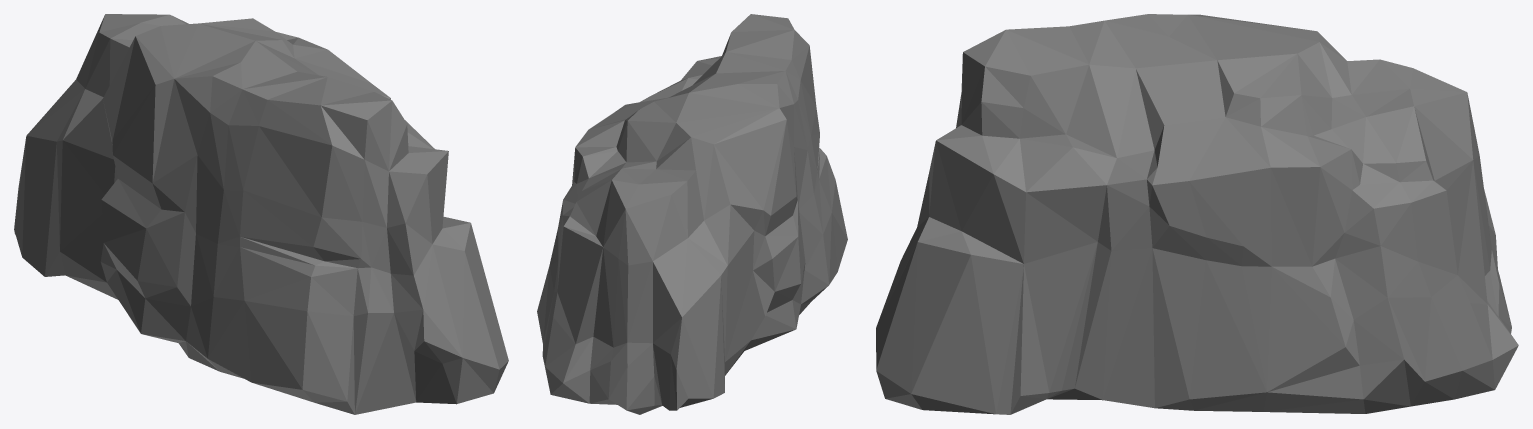
The model's file is model_polytope_rock_flat02.fbx.
The picture shows the model from 3 angles, left to right: view 1: azimuth 30°, elevation 25°; view 2: azimuth 150°, elevation 25°; view 3: azimuth 270°, elevation 25°; orthographic projection. The views are drawn at different scales.
Parts seen in each view (by area): view 1: model_polytope_rock_flat02; view 2: model_polytope_rock_flat02; view 3: model_polytope_rock_flat02.
Part boxes in pixels (<box>): model_polytope_rock_flat02: <box>14,14,508,414</box>; model_polytope_rock_flat02: <box>537,14,847,414</box>; model_polytope_rock_flat02: <box>876,14,1518,414</box>.
Size of the model in its own units: 696 by 790 by 1389.
Materials: 1 (1 with a texture image).
